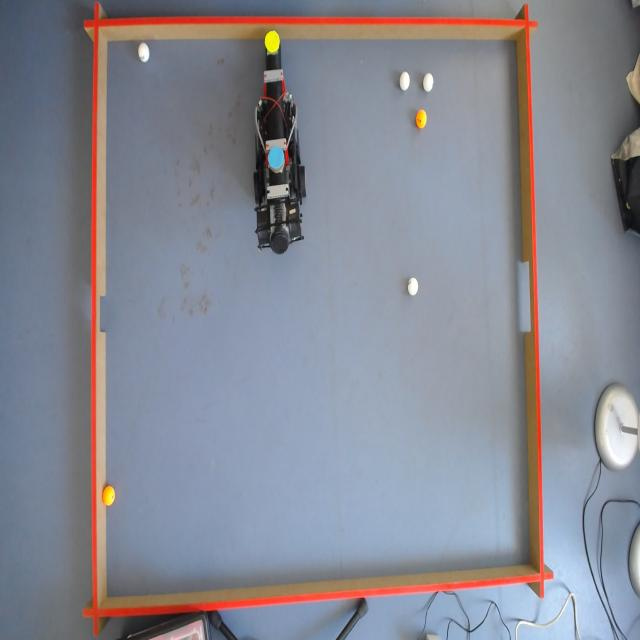orange: (102, 484, 114, 506), (415, 111, 427, 129)
robot: (254, 67, 304, 259)
robot-front: (265, 30, 280, 53)
robot-rear: (268, 147, 284, 169)
white: (408, 276, 419, 298), (138, 43, 150, 63), (400, 70, 410, 90), (422, 74, 433, 92)
